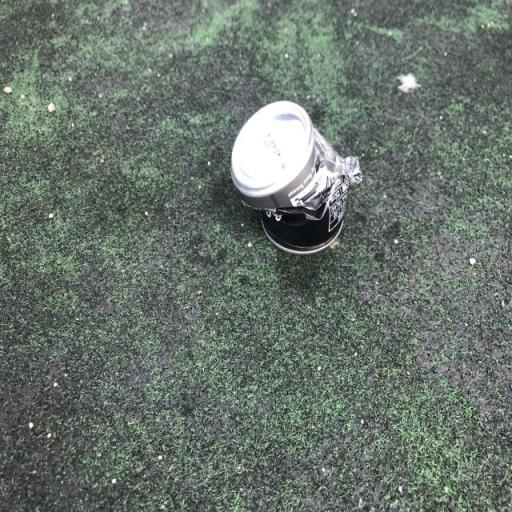metal: (208, 90, 365, 272)
